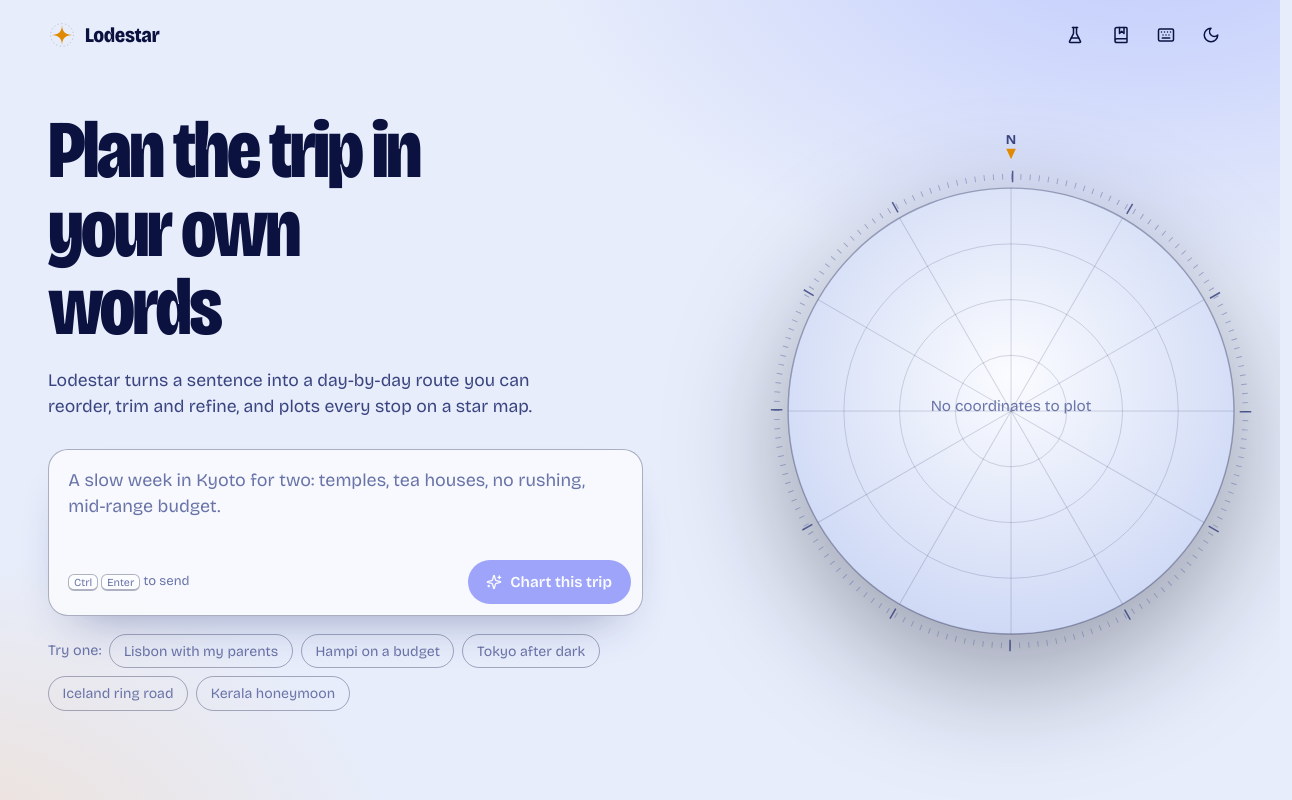
App › renders streamed stops as interactive UI
Replace the text in the text box named "describe your trip" with "Three days somewhere nice": (345, 501) [49,450,642,552]
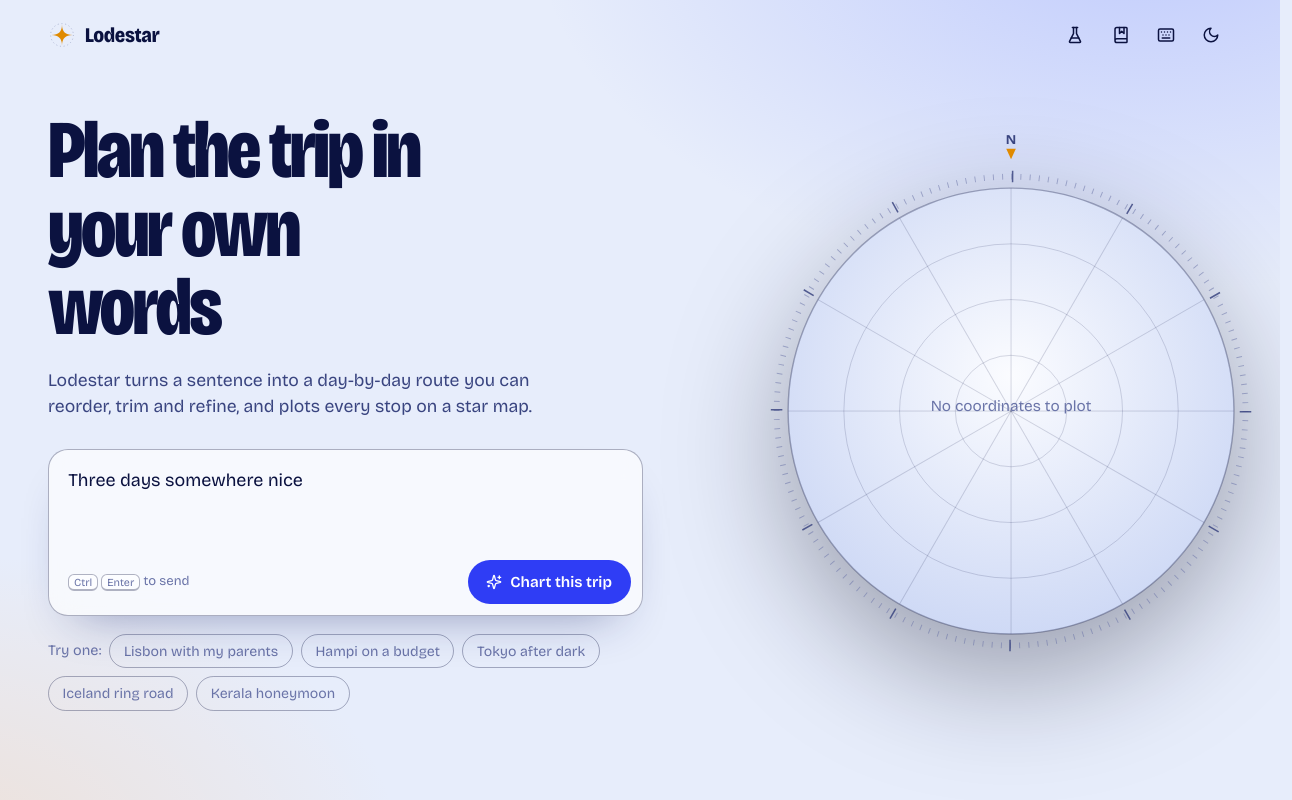
Click the button "Chart this trip": (549, 582) [468,560,630,604]
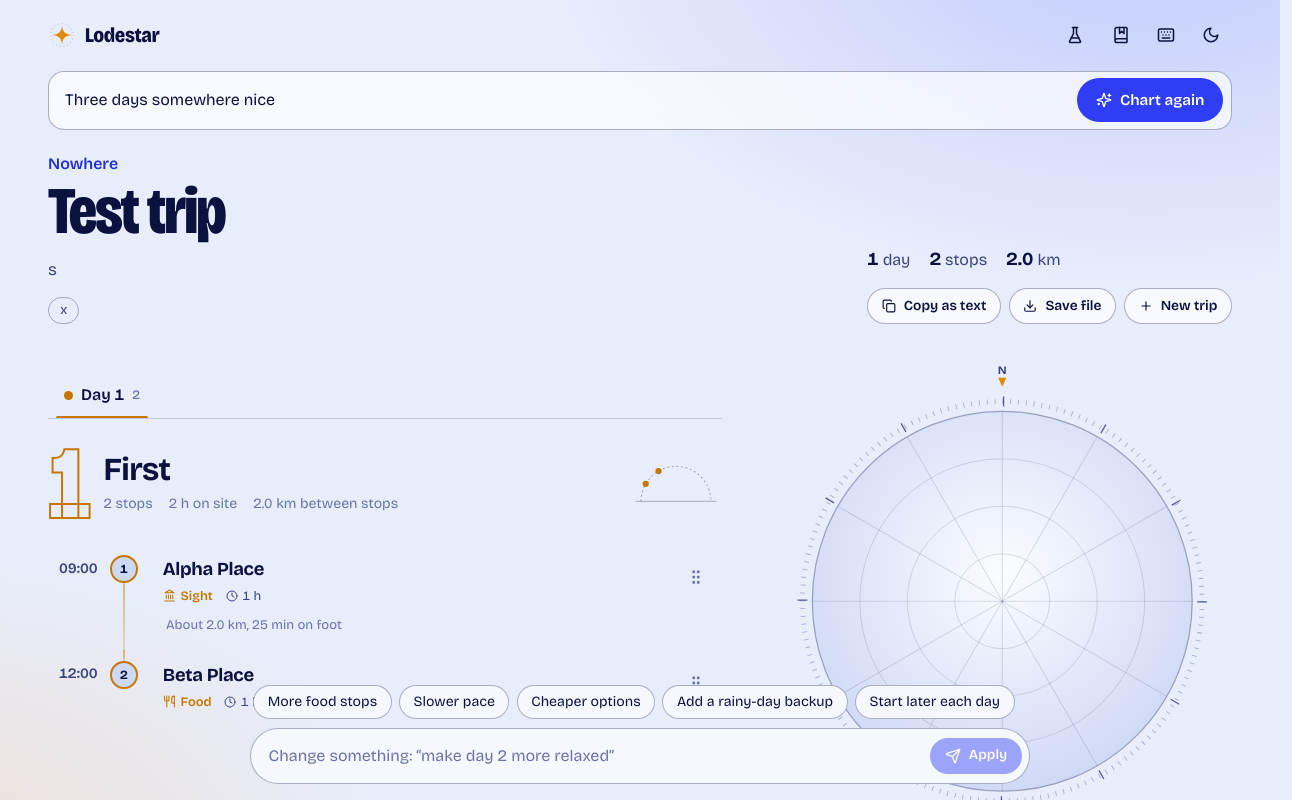
Expected: the text "Alpha Place" is shown
Expected: the text "Beta Place" is shown, [163,664,254,686]
Click the text "Alpha Place": (213, 569) [163,558,264,580]
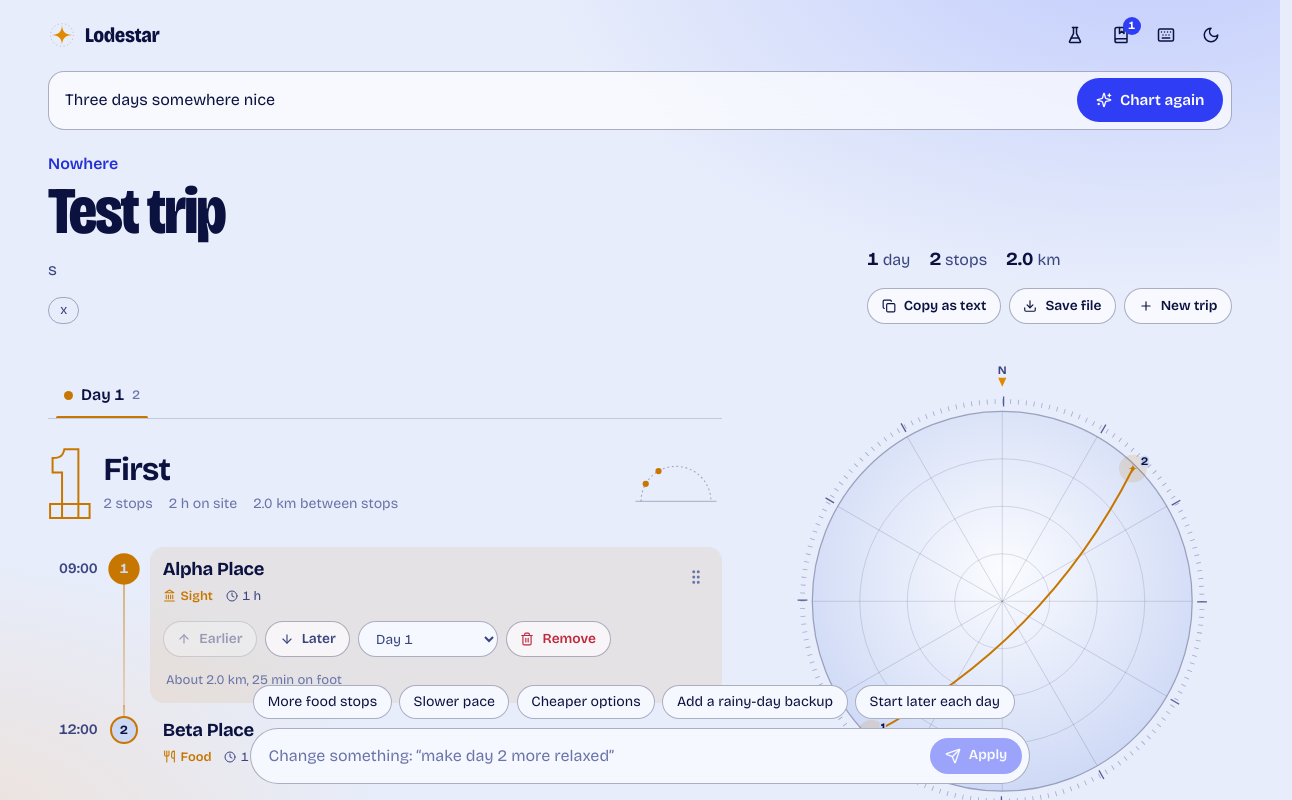
Expected: the button "Remove" is shown, [506,621,611,657]
